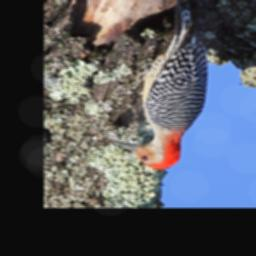Woodpecker: (113, 0, 210, 171)
